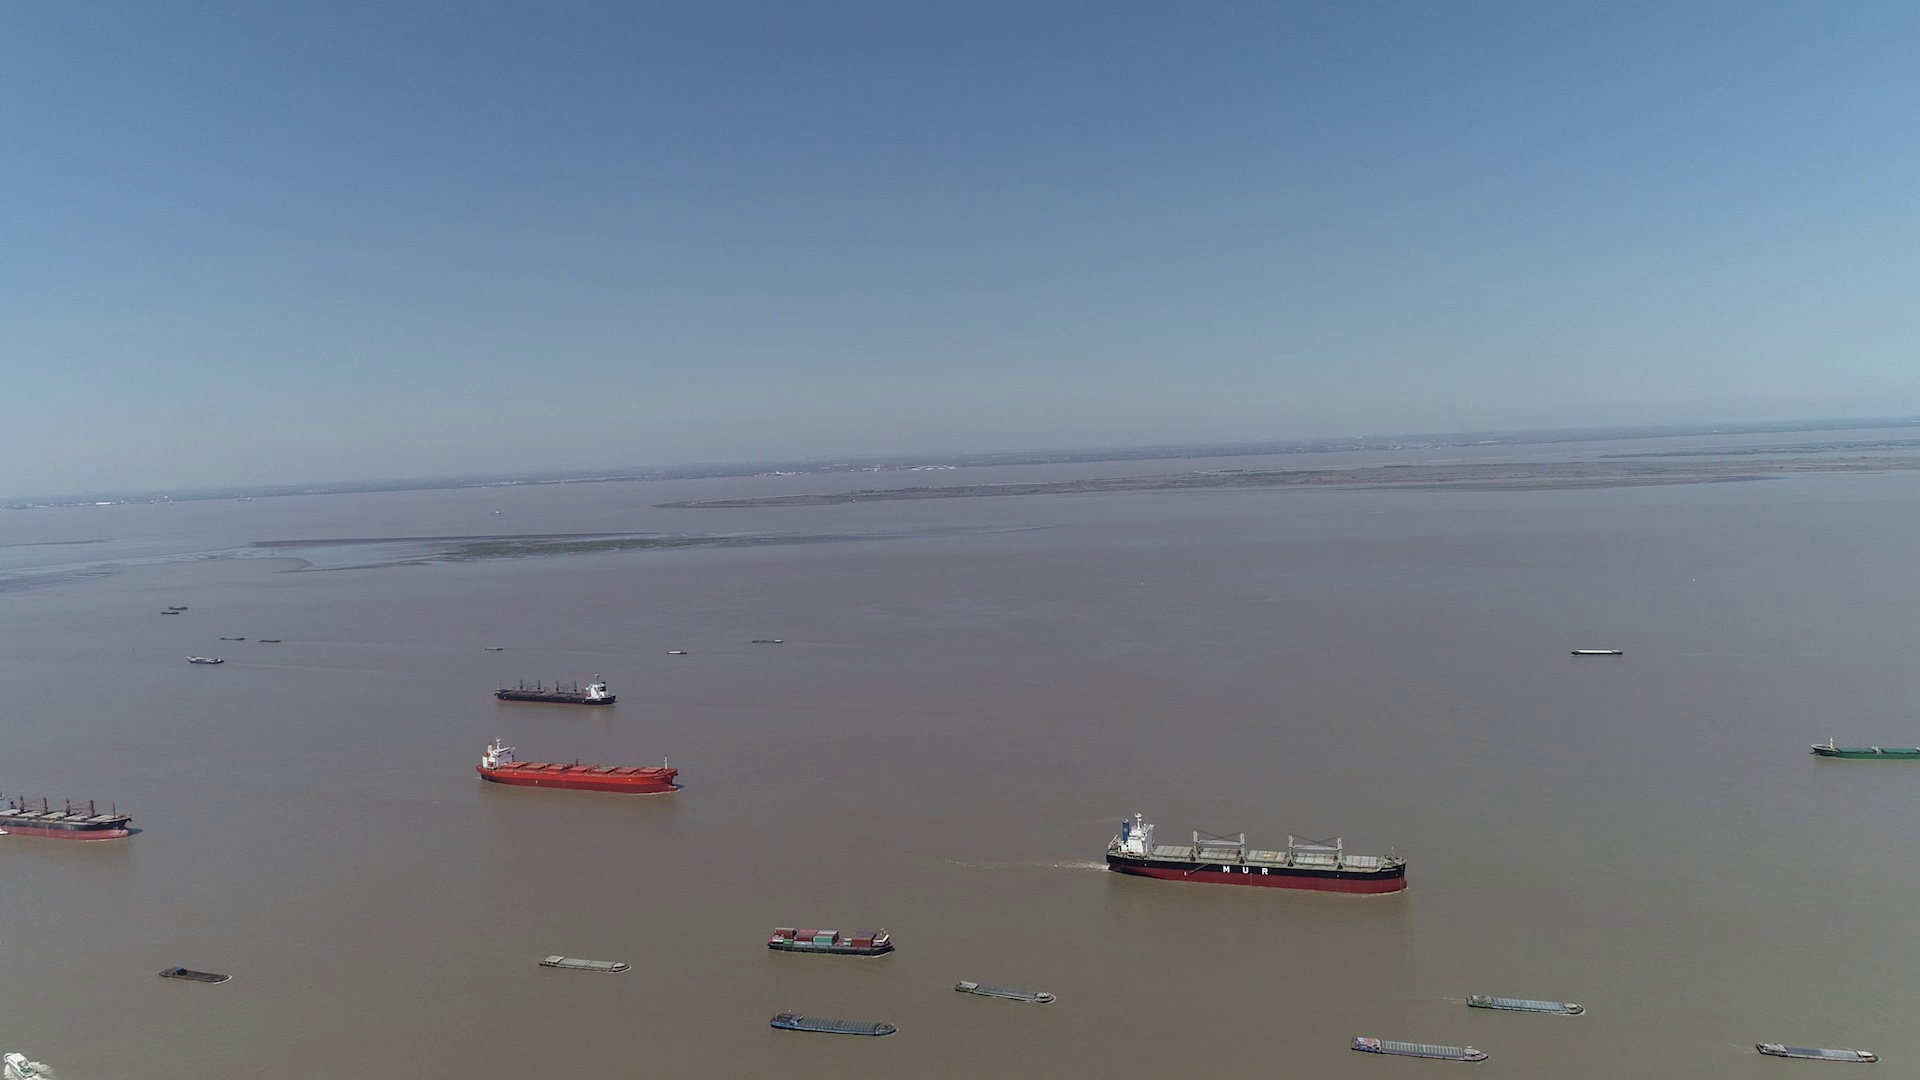ship: (1106, 814, 1410, 895), (473, 735, 683, 791), (0, 787, 136, 841), (769, 923, 895, 956), (1352, 1034, 1490, 1063), (495, 676, 618, 707), (771, 1011, 898, 1036), (1756, 1039, 1879, 1063), (1466, 993, 1582, 1015), (1811, 737, 1920, 760), (955, 980, 1058, 1004), (535, 955, 629, 975), (0, 1047, 47, 1079), (160, 968, 233, 982), (1571, 647, 1622, 655), (186, 655, 225, 665)
